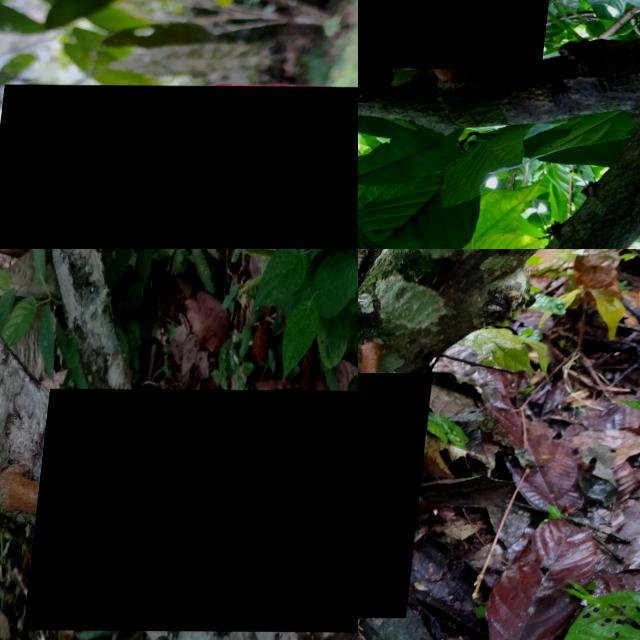Fitoftora: (0, 84, 358, 249), (358, 0, 584, 68), (358, 249, 432, 392)
Monilia: (34, 388, 358, 631), (358, 372, 440, 617)
